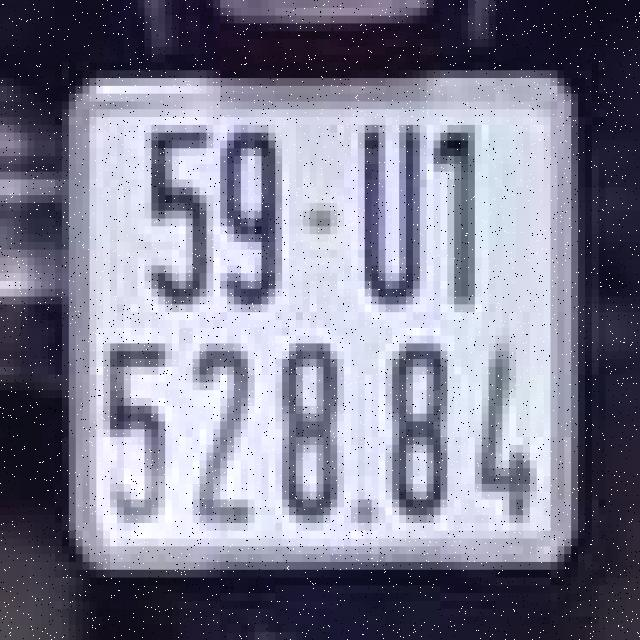1: (430, 113, 499, 316)
2: (182, 336, 265, 530)
4: (472, 332, 540, 527)
5: (89, 332, 186, 542), (127, 109, 217, 312)
8: (375, 324, 465, 535), (268, 332, 351, 534)
9: (220, 117, 275, 312)
U: (351, 105, 427, 332)
